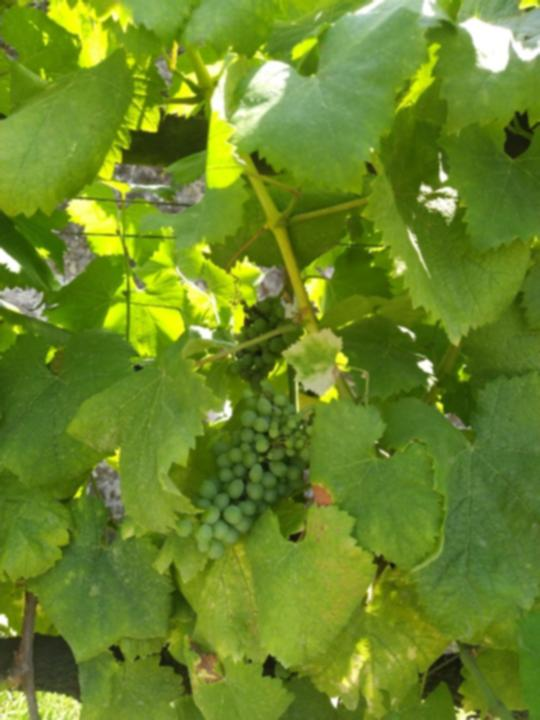grape: (172, 387, 316, 561), (228, 293, 307, 389)
